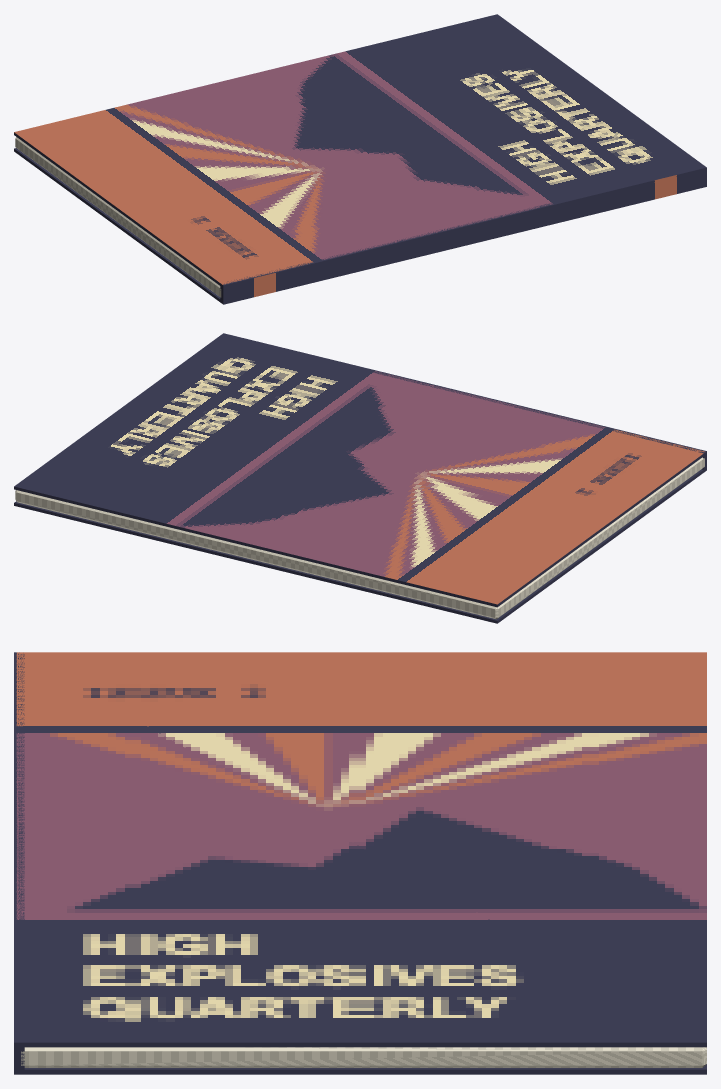
File: mag_launcher.glb
3 renders of one model, top to bottom at view 1: azimuth 30°, elevation 25°; view 2: azimuth 150°, elevation 25°; view 3: azimuth 270°, elevation 25°, orthographic. The views are drawn at different scales.
Visible parts, largest first — view 1: block_front, block_spine, block_pages, block_back; view 2: block_front, block_pages, block_back, block_spine; view 3: block_front, block_pages, block_back, block_spine.
Boxes of the visible parts, left/top/right/bottom form: block_front: left=14, top=14, right=705, bottom=287; block_spine: left=220, top=167, right=706, bottom=304; block_pages: left=15, top=137, right=221, bottom=297; block_back: left=14, top=148, right=222, bottom=303; block_front: left=14, top=334, right=706, bottom=607; block_pages: left=15, top=457, right=704, bottom=619; block_back: left=14, top=468, right=706, bottom=623; block_spine: left=220, top=333, right=706, bottom=470; block_front: left=16, top=652, right=706, bottom=1047; block_pages: left=21, top=1047, right=706, bottom=1067; block_back: left=16, top=1064, right=706, bottom=1074; block_spine: left=14, top=652, right=24, bottom=1074.
Size of the model in its own units: 0.2154 by 0.00821 by 0.1617.
Materials: 1 (1 with a texture image).
